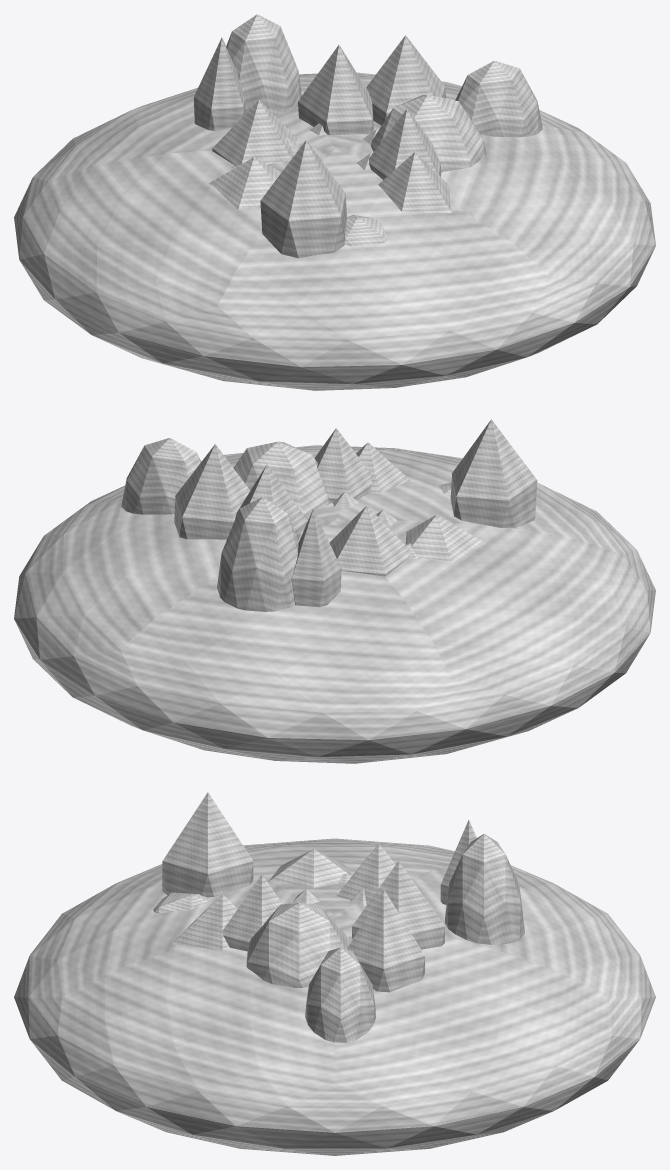
Rendered from caterium_ore_node_variant_c.glb.
3 renders of one model, top to bottom at view 1: azimuth 30°, elevation 25°; view 2: azimuth 150°, elevation 25°; view 3: azimuth 270°, elevation 25°, orthographic.
Visible parts, largest first — view 1: Resource node bedrock.002, Exposed ore formation.029, Exposed ore formation.024, Exposed ore formation.021, Exposed ore formation.023, Exposed ore formation.033, Exposed ore formation.022, Exposed ore formation.026, Exposed ore formation.025, Exposed ore formation.031, Exposed ore formation.032, Exposed ore formation.028 (+1 smaller); view 2: Resource node bedrock.002, Exposed ore formation.024, Exposed ore formation.029, Exposed ore formation.022, Exposed ore formation.021, Exposed ore formation.033, Exposed ore formation.026, Exposed ore formation.025, Exposed ore formation.032, Exposed ore formation.028, Exposed ore formation.023, Exposed ore formation.031; view 3: Resource node bedrock.002, Exposed ore formation.024, Exposed ore formation.029, Exposed ore formation.033, Exposed ore formation.021, Exposed ore formation.022, Exposed ore formation.023, Exposed ore formation.032, Exposed ore formation.028, Exposed ore formation.031, Exposed ore formation.026, Exposed ore formation.025 (+1 smaller).
Part boxes in pixels (box(x1,y1,x2,y2)): Resource node bedrock.002: box(14, 72, 655, 390); Exposed ore formation.029: box(260, 140, 346, 258); Exposed ore formation.024: box(226, 14, 301, 115); Exposed ore formation.021: box(455, 60, 542, 137); Exposed ore formation.023: box(297, 45, 373, 134); Exposed ore formation.033: box(370, 94, 486, 171); Exposed ore formation.022: box(366, 35, 445, 125); Exposed ore formation.026: box(212, 100, 296, 165); Exposed ore formation.025: box(194, 37, 245, 130); Exposed ore formation.031: box(378, 152, 451, 213); Exposed ore formation.032: box(369, 109, 441, 179); Exposed ore formation.028: box(208, 157, 281, 209); Resource node bedrock.002: box(14, 445, 655, 763); Exposed ore formation.024: box(217, 497, 298, 611); Exposed ore formation.029: box(450, 419, 537, 528); Exposed ore formation.022: box(174, 444, 250, 539); Exposed ore formation.021: box(121, 438, 201, 514); Exposed ore formation.033: box(233, 441, 329, 512); Exposed ore formation.026: box(329, 505, 410, 576); Exposed ore formation.025: box(291, 509, 341, 607); Exposed ore formation.032: box(314, 428, 371, 502); Exposed ore formation.028: box(405, 514, 485, 563); Exposed ore formation.023: box(235, 464, 307, 540); Exposed ore formation.031: box(356, 442, 410, 493); Resource node bedrock.002: box(14, 838, 655, 1155); Exposed ore formation.024: box(444, 834, 524, 944); Exposed ore formation.029: box(162, 792, 253, 897); Exposed ore formation.033: box(246, 902, 349, 988); Exposed ore formation.021: box(305, 947, 375, 1042); Exposed ore formation.022: box(347, 889, 424, 992); Exposed ore formation.023: box(352, 861, 444, 949); Exposed ore formation.032: box(222, 874, 282, 951); Exposed ore formation.028: box(268, 849, 352, 888); Exposed ore formation.031: box(172, 894, 237, 950); Exposed ore formation.026: box(336, 843, 395, 904); Exposed ore formation.025: box(440, 819, 476, 904).
Size of what is drawn, in the model's own units: 6 by 2.52 by 6.
Materials: 2 (2 with a texture image).
